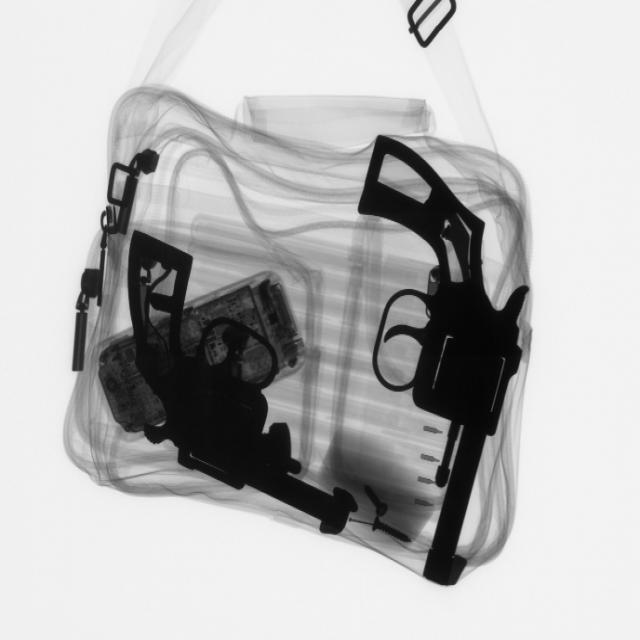GUN: (356, 129, 536, 584), (126, 229, 349, 545)
